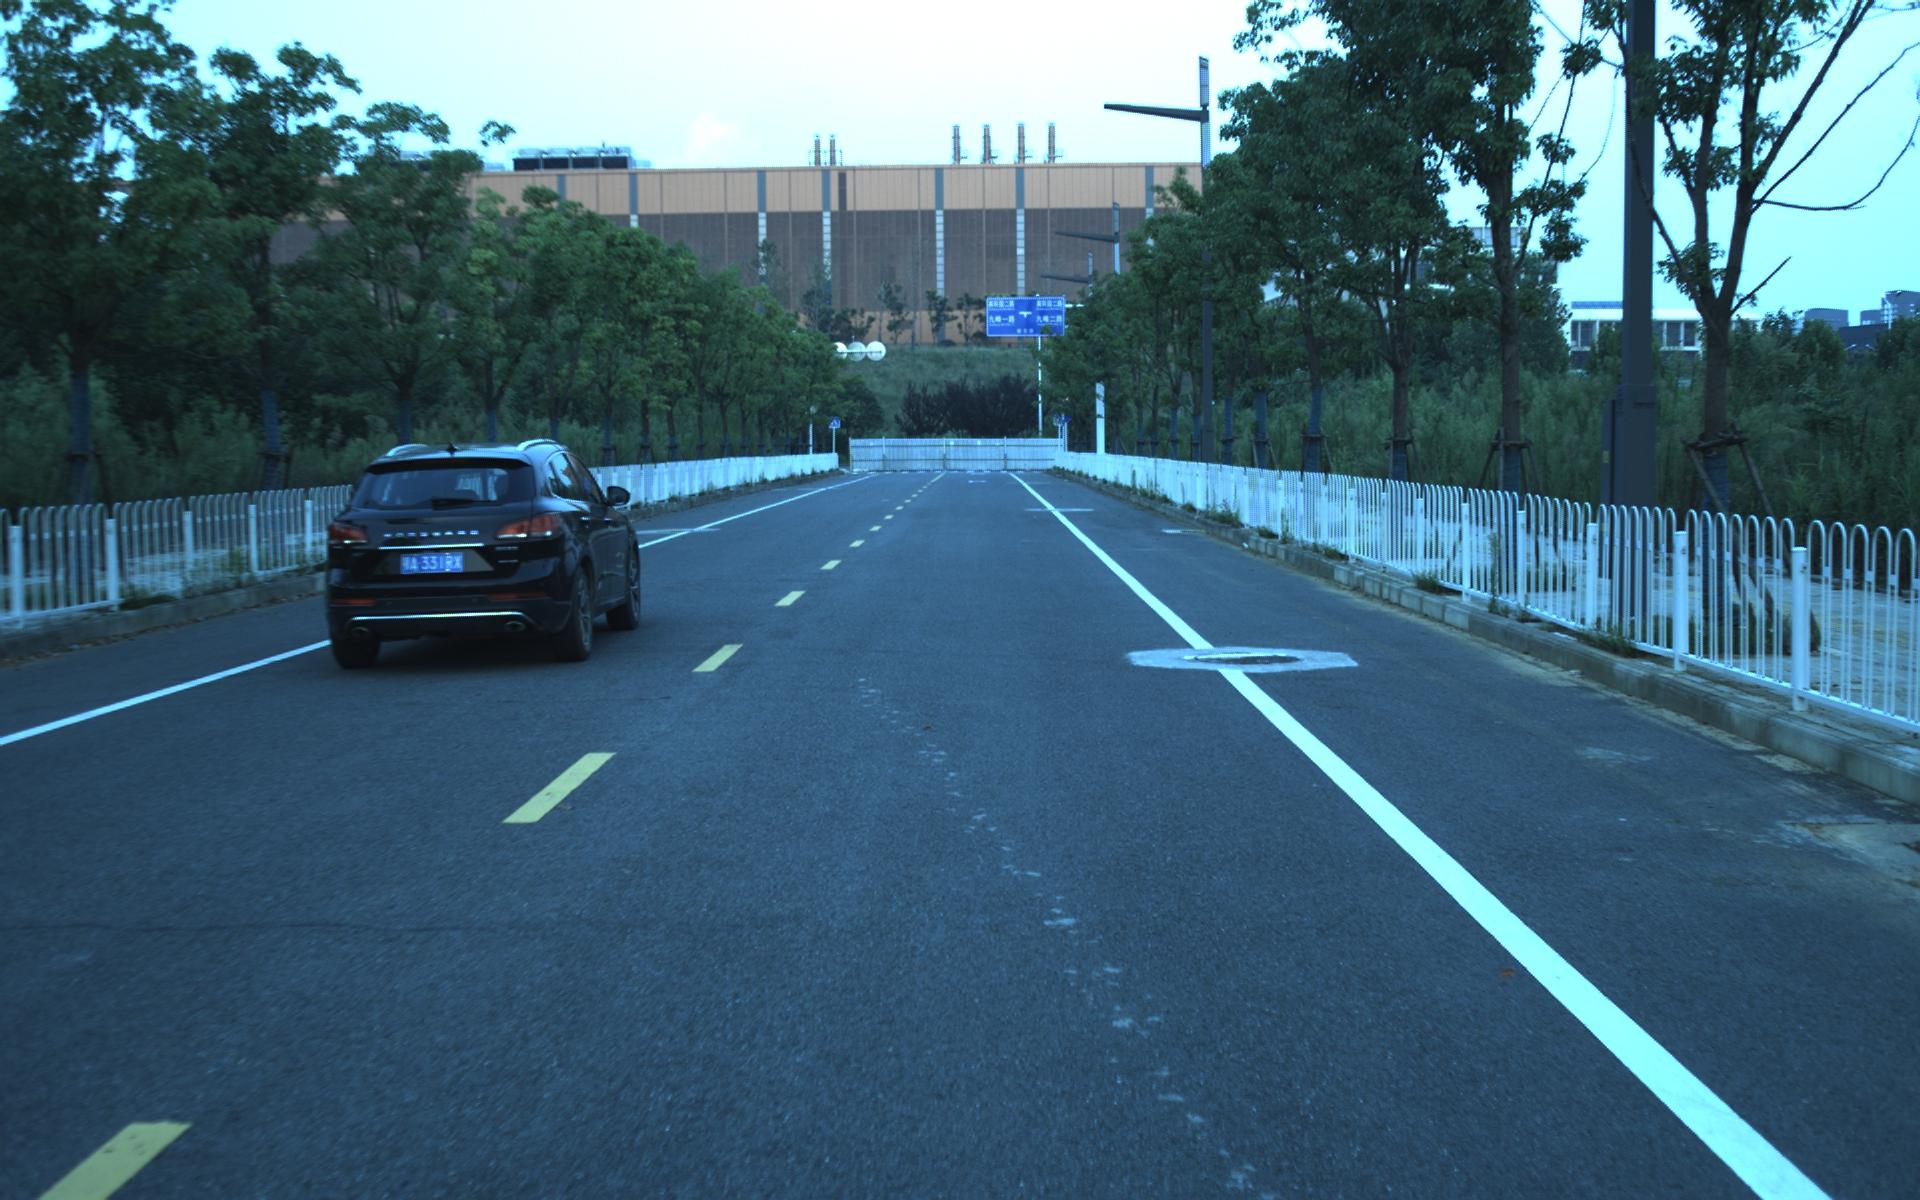Car: (308, 429, 650, 671)
